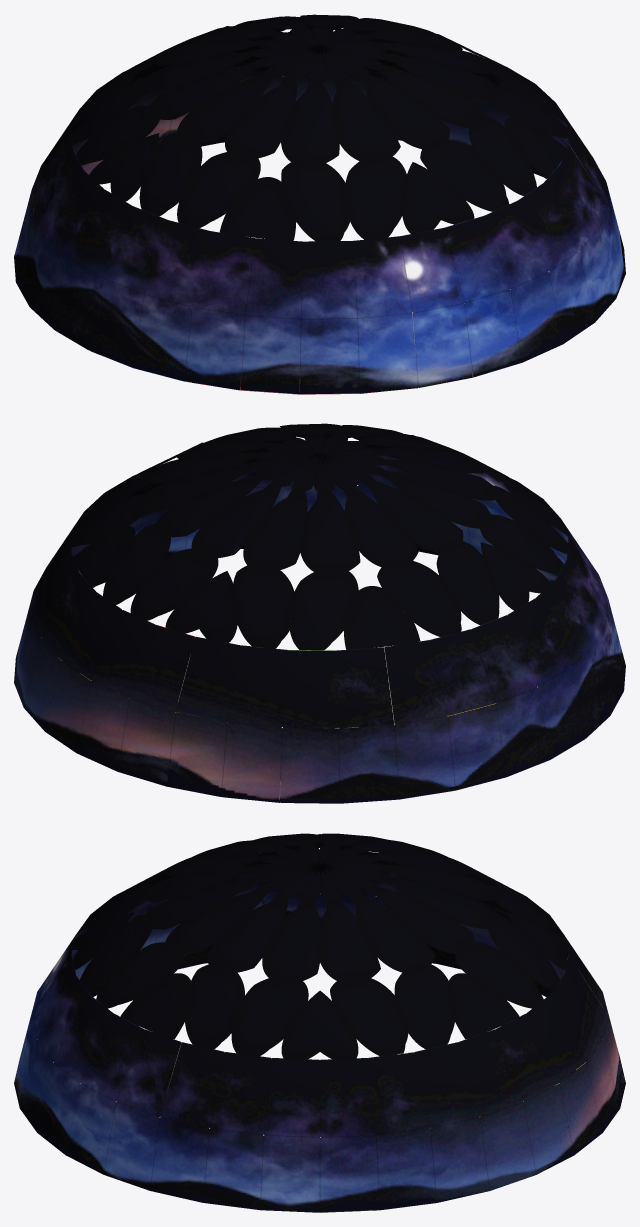
3 renders of one model, top to bottom at view 1: azimuth 30°, elevation 25°; view 2: azimuth 150°, elevation 25°; view 3: azimuth 270°, elevation 25°, orthographic.
Visible parts, largest first — view 1: T1L9M005_19; view 2: T1L9M005_19; view 3: T1L9M005_19.
Part boxes in pixels (box(x1,y1,x2,y2)): T1L9M005_19: box(14, 14, 625, 394); T1L9M005_19: box(14, 423, 625, 803); T1L9M005_19: box(14, 833, 625, 1212).
Bounding box in the file's own units: 4.09 × 1.6 × 4.09.
Materials: 1 (1 with a texture image).
